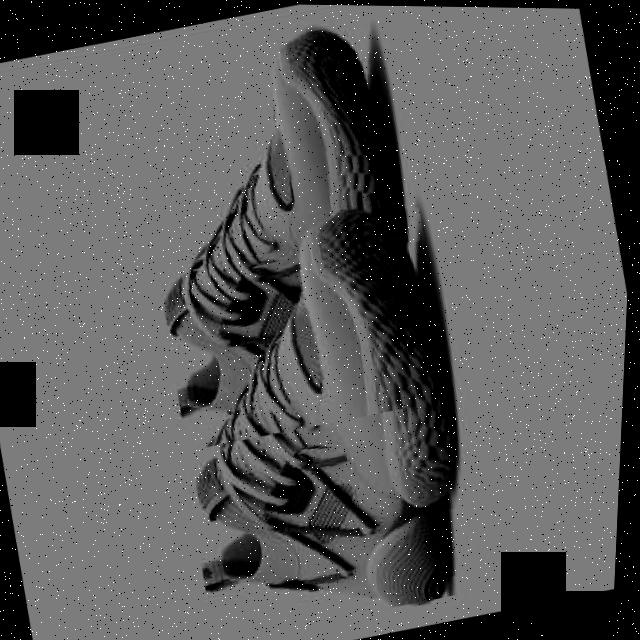shoe: (136, 188, 502, 640), (109, 10, 449, 453)
